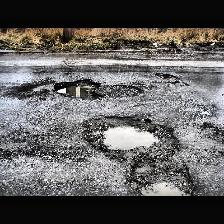pothole: (82, 114, 182, 162), (124, 165, 196, 195), (52, 78, 100, 100), (155, 72, 177, 80), (170, 80, 188, 86)
